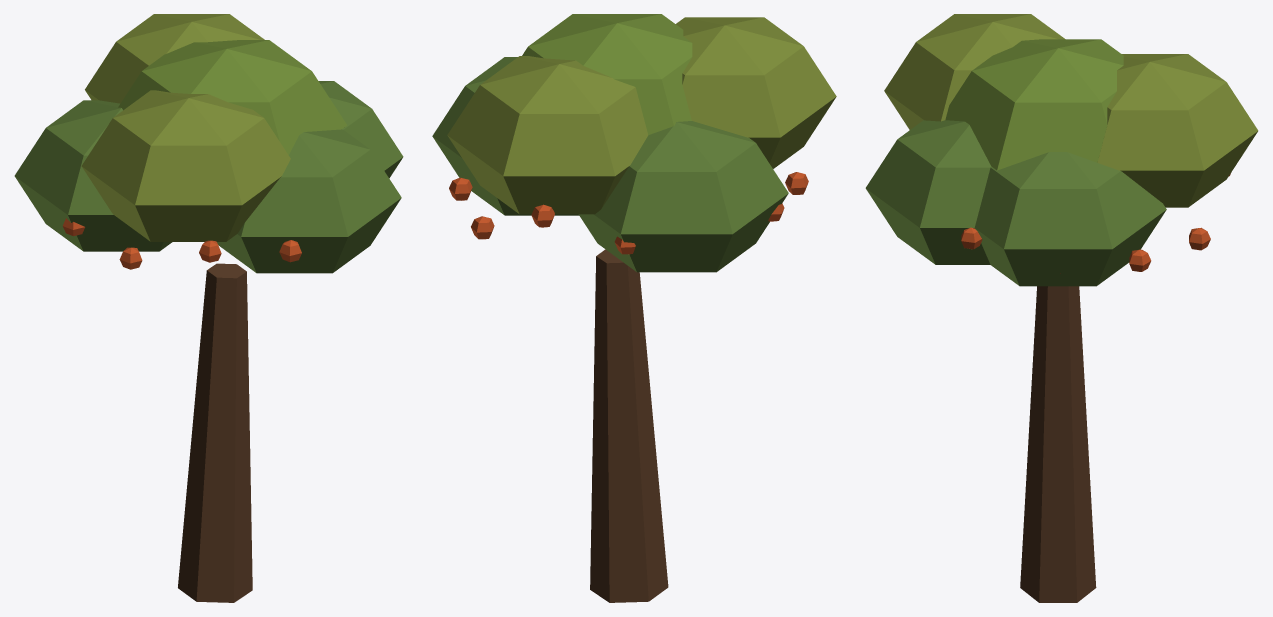
File: a2f_persimmon_tree.glb
The picture shows the model from 3 angles, left to right: view 1: azimuth 30°, elevation 25°; view 2: azimuth 150°, elevation 25°; view 3: azimuth 270°, elevation 25°; orthographic projection. The views are drawn at different scales.
Parts seen in each view (by area): view 1: a2f_persimmon_tree; view 2: a2f_persimmon_tree; view 3: a2f_persimmon_tree.
Part boxes in pixels (x1,y1,x2,y2): a2f_persimmon_tree: [14, 14, 403, 602]; a2f_persimmon_tree: [432, 14, 836, 602]; a2f_persimmon_tree: [865, 14, 1258, 602].
Bounding box in the file's own units: 2.69 × 4.44 × 2.89.
